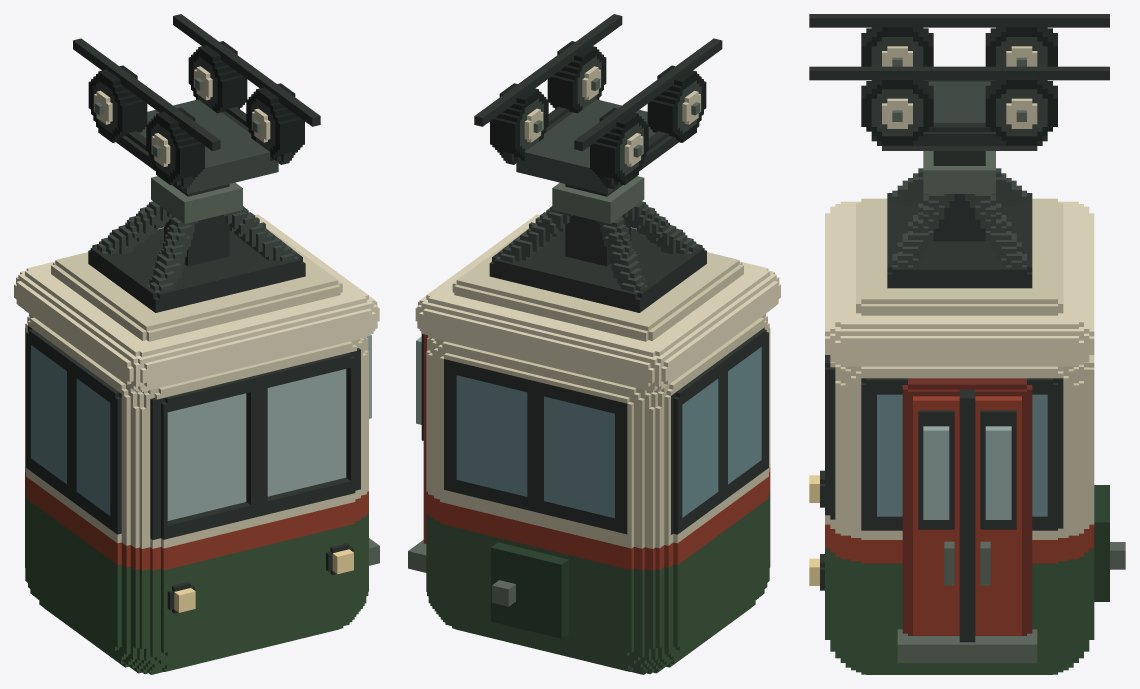
Rendered from cable_car.glb.
The picture shows the model from 3 angles, left to right: view 1: azimuth 30°, elevation 25°; view 2: azimuth 150°, elevation 25°; view 3: azimuth 270°, elevation 25°; orthographic projection. The views are drawn at different scales.
Visible parts, largest first — view 1: cable_car; view 2: cable_car; view 3: cable_car.
Part boxes in pixels (x1=…): cable_car: x1=14, y1=14, x2=379, y2=674; cable_car: x1=408, y1=14, x2=780, y2=674; cable_car: x1=809, y1=14, x2=1125, y2=674.
Bounding box in the file's own units: 3.74 × 6.82 × 3.36.
